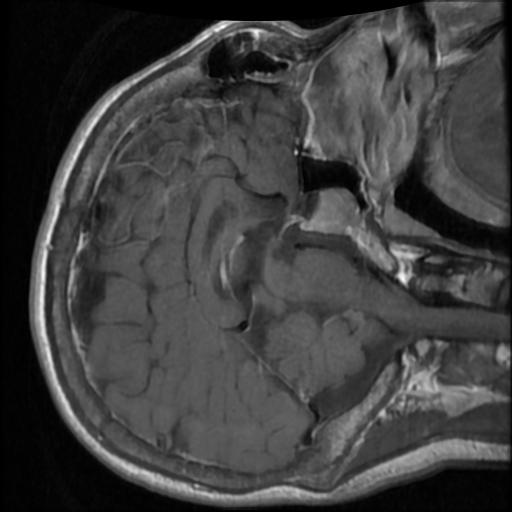pituitary tumour: (300, 189, 356, 233)
